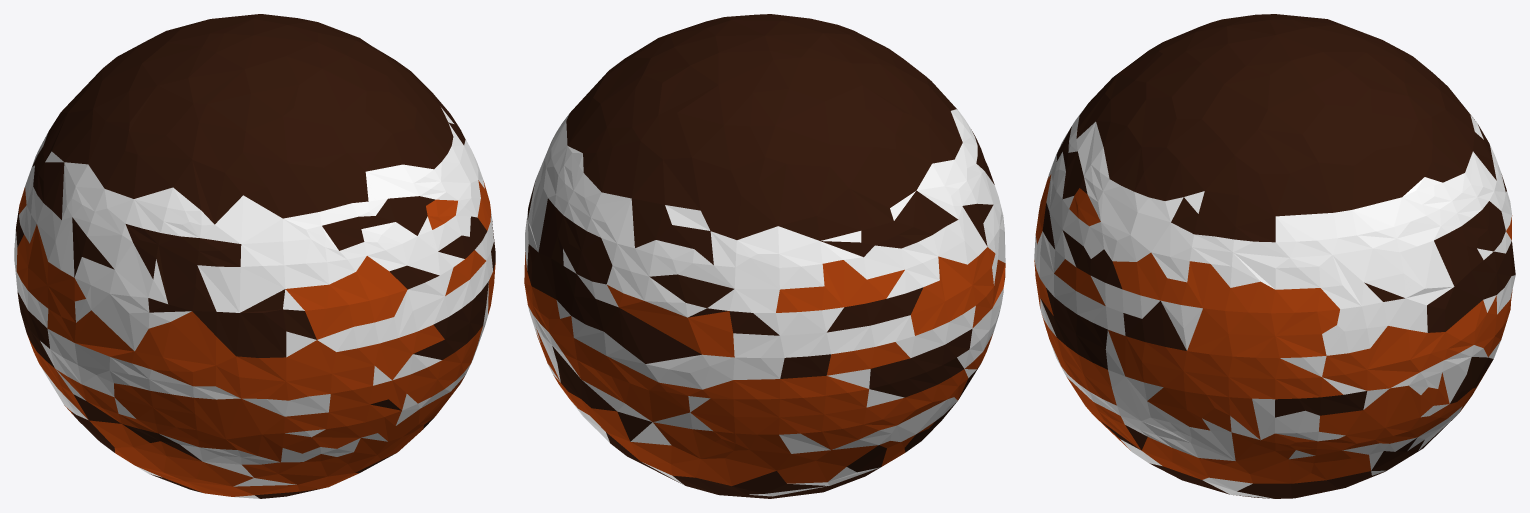
Rendered from Jupiter.obj.
The picture shows the model from 3 angles, left to right: view 1: azimuth 30°, elevation 25°; view 2: azimuth 150°, elevation 25°; view 3: azimuth 270°, elevation 25°; orthographic projection.
Visible parts, largest first — view 1: Sphere002; view 2: Sphere002; view 3: Sphere002.
Part boxes in pixels (x1,y1,x2,y2): Sphere002: [14, 14, 495, 498]; Sphere002: [524, 14, 1005, 498]; Sphere002: [1034, 14, 1515, 498].
Size of the model in its own units: 317289 by 320809 by 316846.
